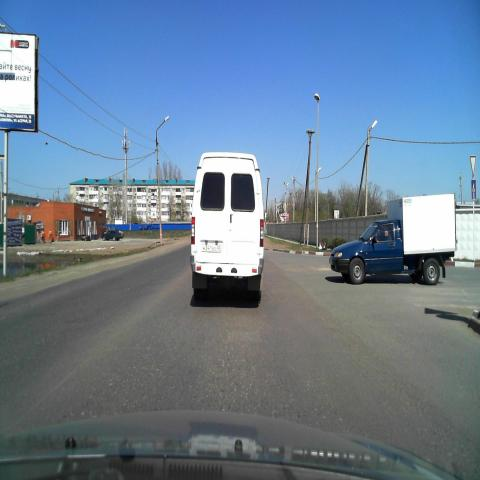2_4: (469, 154, 477, 176)
5_6: (470, 180, 478, 198)
